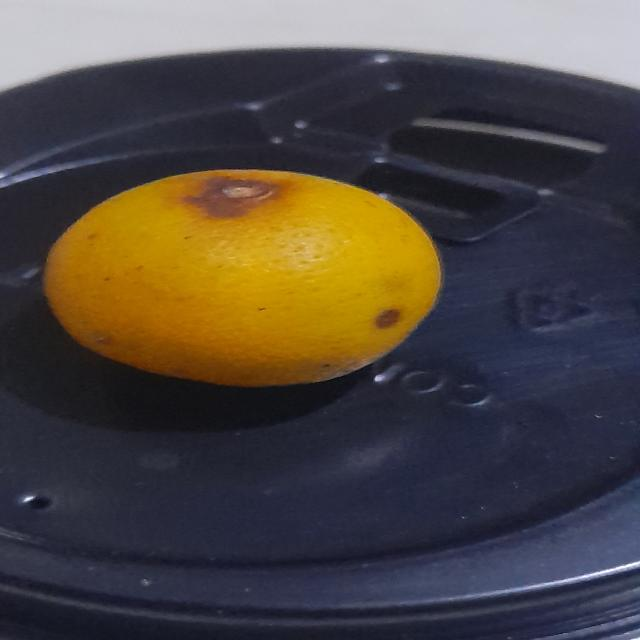black spot: (39, 162, 448, 390)
